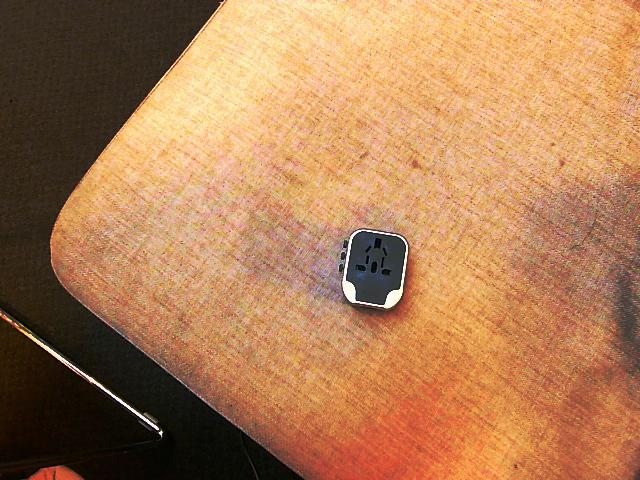adapter: (337, 228, 409, 310)
